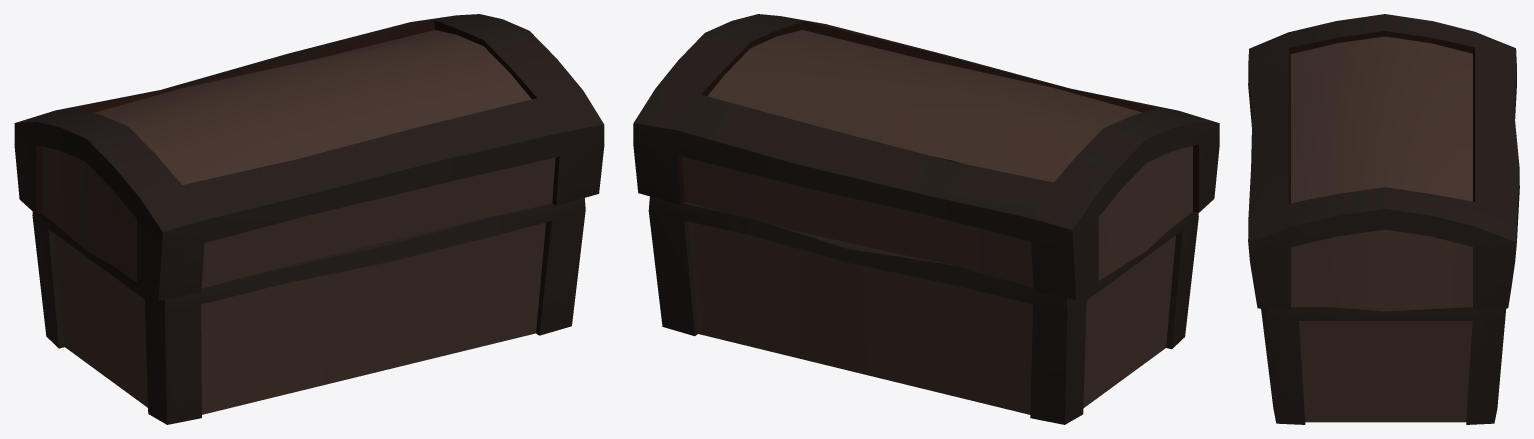
The model's file is Chest_With_Unlit_Torches_withVisibility.fbx.
3 views of the same model, side by side, from view 1: azimuth 30°, elevation 25°; view 2: azimuth 150°, elevation 25°; view 3: azimuth 270°, elevation 25° (orthographic). The views are drawn at different scales.
Parts seen in each view (by area): view 1: ChestTop, ChestBottom; view 2: ChestTop, ChestBottom; view 3: ChestTop, ChestBottom.
Part boxes in pixels (x1,y1,x2,y2): ChestTop: (14,14,604,301); ChestBottom: (32,198,585,424); ChestTop: (633,14,1219,299); ChestBottom: (648,196,1198,424); ChestTop: (1248,14,1519,311); ChestBottom: (1261,307,1505,424).
Bounding box in the file's own units: 4.41 × 2.34 × 2.56.
